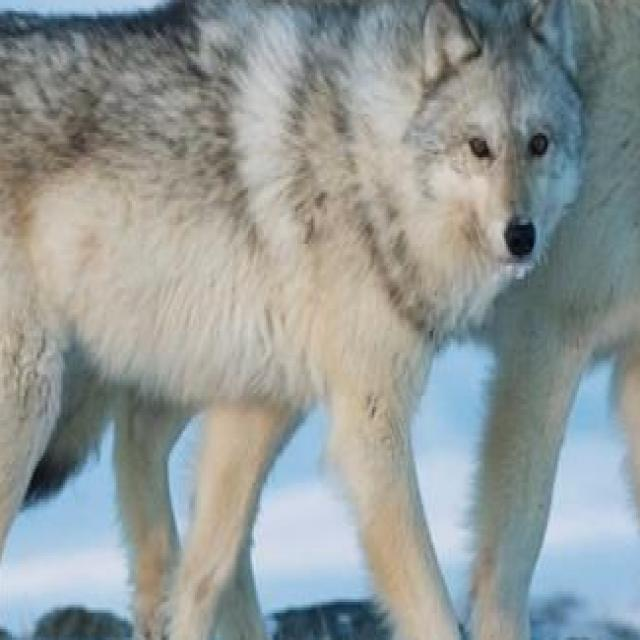wolf: (0, 0, 593, 640), (173, 0, 640, 640)
